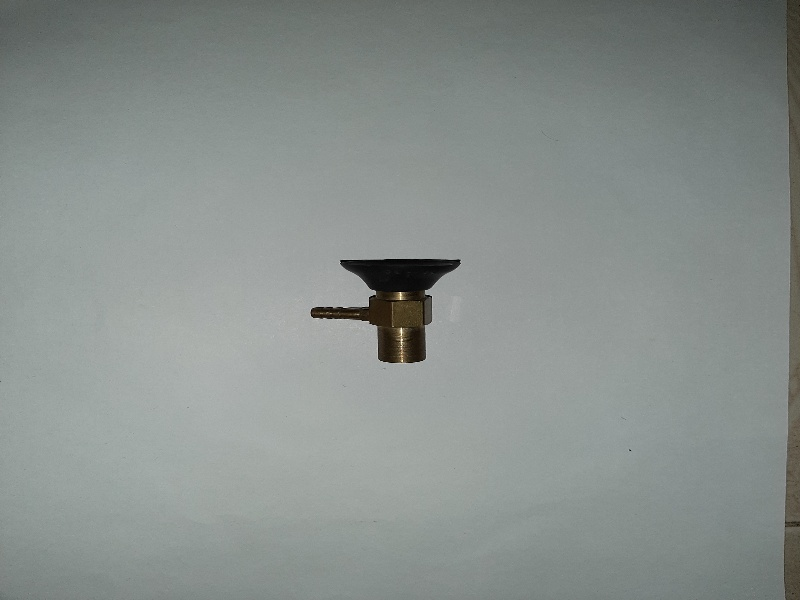Joint Hold: (306, 249, 471, 372)
